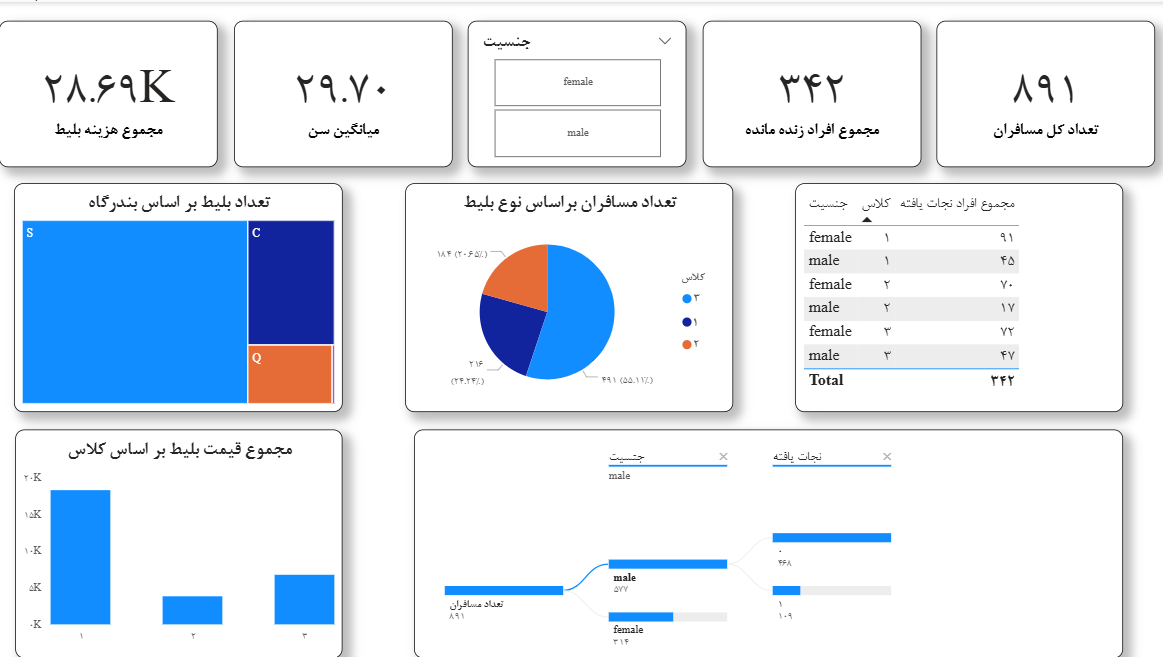

What the dashboard file says about the page in this screenshot:
{"tool":"powerbi","page":{"name":"Page 1","canvas":[1280,720],"ordinal":0},"visuals":[{"type":"card","fields":{"Values":["Sum(titanic.Survived)"]},"box":[771.9,20.6,240.1,160.5],"z":0},{"type":"card","fields":{"Values":["Sum(titanic.Fare)"]},"box":[0,20.6,240.1,160.5],"z":1000},{"type":"slicer","fields":{"Values":["titanic.Sex"]},"box":[514.6,20.6,240.1,160.5],"z":2000},{"type":"treemap","title":"تعداد بلیط بر اساس بندرگاه","fields":{"Group":["titanic.Embarked"],"Values":["CountNonNull(titanic.Ticket)"]},"box":[16.5,199,360.9,251.1],"z":3000},{"type":"card","fields":{"Values":["Avg(titanic.Age)"]},"box":[257.3,20.6,240.1,160.5],"z":4000},{"type":"card","fields":{"Values":["CountNonNull(titanic.PassengerId)"]},"box":[1029.2,20.6,240.1,160.5],"z":5000},{"type":"pieChart","title":"تعداد مسافران براساس نوع بلیط","fields":{"Y":["CountNonNull(titanic.PassengerId)"],"Category":["titanic.Pclass"]},"box":[445.7,199.1,360,251],"z":6000},{"type":"tableEx","fields":{"Values":["titanic.Sex","titanic.Pclass","Sum(titanic.Survived)"]},"box":[874.1,199.1,360,251],"z":8000},{"type":"columnChart","title":"مجموع قیمت بلیط بر اساس کلاس","fields":{"Category":["titanic.Pclass"],"Y":["Sum(titanic.Fare)"]},"box":[17.8,469.3,359.5,251.1],"z":8001},{"type":"decompositionTreeVisual","title":"مجموع قیمت بلیط بر اساس کلاس","fields":{"Analyze":["CountNonNull(titanic.PassengerId)"],"ExplainBy":["titanic.Sex","titanic.Survived"]},"box":[455.6,469.3,778,251.1],"z":8002}]}

Visuals, with their boxes in screenshot pixels (x1, y1, x2, y2), scaled from the page's 1280x720 canvas onto the 1163x657 screenshot:
card - Sum(titanic.Survived): <bbox>701, 19, 919, 165</bbox>
card - Sum(titanic.Fare): <bbox>0, 19, 218, 165</bbox>
slicer - titanic.Sex: <bbox>468, 19, 686, 165</bbox>
"تعداد بلیط بر اساس بندرگاه" treemap: <bbox>15, 182, 343, 411</bbox>
card - Avg(titanic.Age): <bbox>234, 19, 452, 165</bbox>
card - CountNonNull(titanic.PassengerId): <bbox>935, 19, 1153, 165</bbox>
"تعداد مسافران براساس نوع بلیط" pieChart: <bbox>405, 182, 732, 411</bbox>
tableEx - titanic.Sex x titanic.Pclass: <bbox>794, 182, 1121, 411</bbox>
"مجموع قیمت بلیط بر اساس کلاس" columnChart: <bbox>16, 428, 343, 656</bbox>
"مجموع قیمت بلیط بر اساس کلاس" decompositionTreeVisual: <bbox>414, 428, 1121, 656</bbox>
